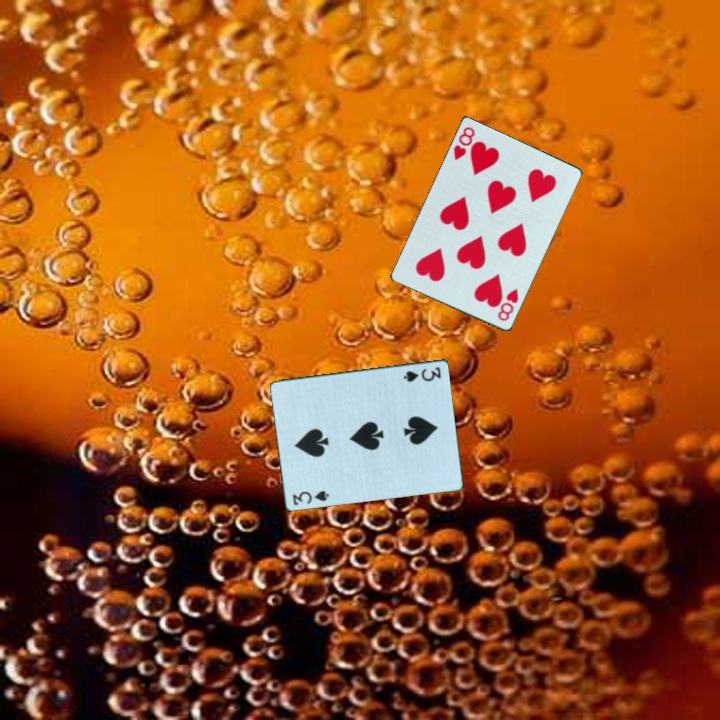3s: (400, 364, 444, 385), (289, 487, 332, 508)
8h: (450, 123, 478, 164), (494, 285, 522, 324)
